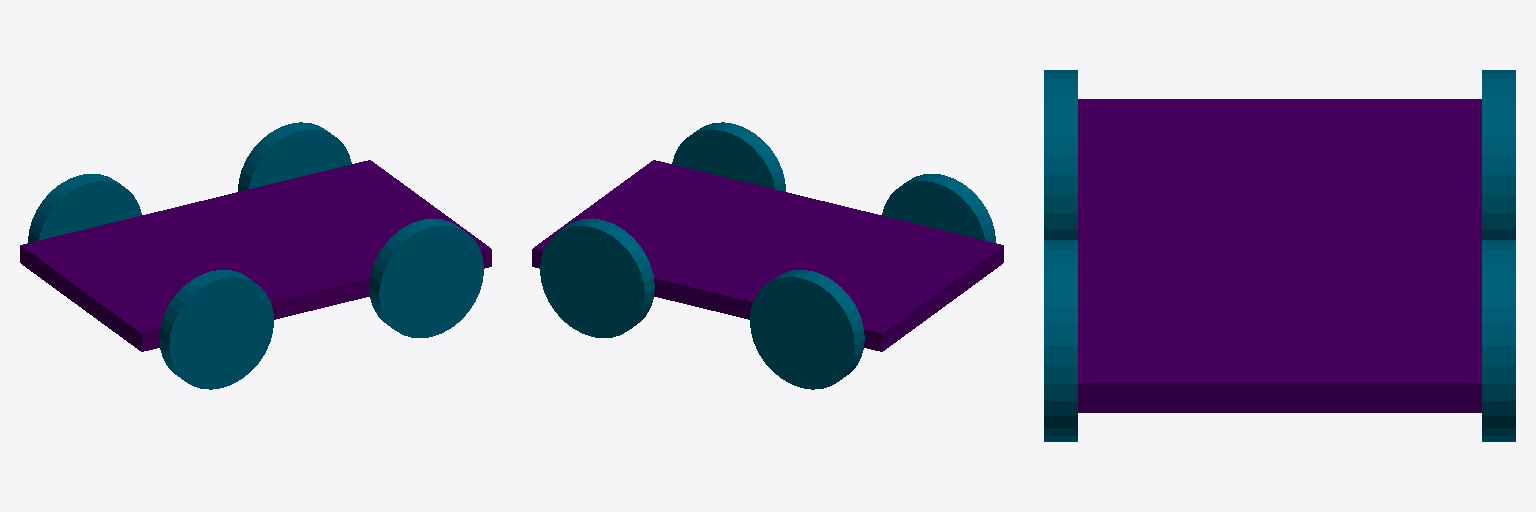
robot.urdf — car_robot:
<?xml version='1.0'?>
<robot name="car_robot">
	
	<material name="blue">
		<color rgba="0 0.4 0.5 1"/>
	</material>
	
	<!--dummy link-->
	<link name="base_link"/>
	
	<!--chassis link-->
	<link name="chassis-link">
		<visual>
			<origin xyz="0 0 0" rpy="0 0 0" />
			<geometry>
				<box size="0.2 0.12 .01" />
			</geometry>
			<material name="brown">
				<color rgba="0.3 0 0.4 1"/>
			</material>		
		</visual>
		<collision>
			<origin xyz="0 0 0" rpy="0 0 0" />
			<geometry>
				<box size="0.2 0.12 .01" />
			</geometry>
		</collision>
		<inertial>
			<mass value="0.4" />
			<inertia ixx="0.00048333" iyy="0.0013367" izz="0.0018133"
			ixy="0" ixz="0" iyz="0"/>
		</inertial>
	</link>
	
	<link name="front-right-wheel-link">
		<visual>
			<origin xyz="0 0 0" rpy="1.57079 0 0" />
			<geometry>
				<cylinder radius ="0.03"  length="0.01" />
			</geometry>
			<material name="blue" />
		</visual>
		<collision>
			<origin xyz="0 0 0" rpy="1.57079 0 0" />
			<geometry>
				<cylinder radius ="0.03"  length="0.01" />
			</geometry>
		</collision>
		<inertial>
			<origin xyz="0 0 0" rpy="1.57079 0 0" />
			<mass value="0.2" />
			<inertia ixx="0.00004667" iyy="0.00004667" izz="0.00009"
			ixy="0" ixz="0" iyz="0"/>
		</inertial>
	</link>
	
	<link name="front-left-wheel-link">
		<visual>
			<origin xyz="0 0 0" rpy="1.57079 0 0" />
			<geometry>
				<cylinder radius ="0.03"  length="0.01" />
			</geometry>
			<material name="blue" />
		</visual>
		<collision>
			<origin xyz="0 0 0" rpy="1.57079 0 0" />
			<geometry>
				<cylinder radius ="0.03"  length="0.01" />
			</geometry>
		</collision>
		<inertial>
			<origin xyz="0 0 0" rpy="1.57079 0 0" />
			<mass value="0.2" />
			<inertia ixx="0.00004667" iyy="0.00004667" izz="0.00009"
			ixy="0" ixz="0" iyz="0"/>
		</inertial>
	</link>
	
	<link name="rare-right-wheel-link">
		<visual>
			<origin xyz="0 0 0" rpy="1.57079 0 0" />
			<geometry>
				<cylinder radius ="0.03"  length="0.01" />
			</geometry>
			<material name="blue" />
		</visual>
		<collision>
			<origin xyz="0 0 0" rpy="1.57079 0 0" />
			<geometry>
				<cylinder radius ="0.03"  length="0.01" />
			</geometry>
		</collision>
		<inertial>
			<origin xyz="0 0 0" rpy="1.57079 0 0" />
			<mass value="0.2" />
			<inertia ixx="0.00004667" iyy="0.00004667" izz="0.00009"
			ixy="0" ixz="0" iyz="0"/>
		</inertial>
	</link>
	
	<link name="rare-left-wheel-link">
		<visual>
			<origin xyz="0 0 0" rpy="1.57079 0 0" />
			<geometry>
				<cylinder radius ="0.03"  length="0.01" />
			</geometry>
			<material name="blue" />
		</visual>	
		<collision>
			<origin xyz="0 0 0" rpy="1.57079 0 0" />
			<geometry>
				<cylinder radius ="0.03"  length="0.01" />
			</geometry>
		</collision>	
		<inertial>
			<origin xyz="0 0 0" rpy="1.57079 0 0" />
			<mass value="0.2" />
			<inertia ixx="0.00004667" iyy="0.00004667" izz="0.00009"
			ixy="0" ixz="0" iyz="0"/>
		</inertial>
	</link>
	
	<joint name="joint-base-chassis" type="fixed">
		<parent link="base_link"/>
		<child link="chassis-link"/>
		<origin xyz="0 0 0.03" rpy="0 0 0" />
	</joint>	
	
	<joint name="joint-chassis-front-right-wheel" type="continuous">
		<parent link="chassis-link"/>
		<child link="front-right-wheel-link"/>
		<origin xyz="0.06 0.065 0" rpy="0 0 0" />
		<axis xyz="0 1 0" />
	</joint>
	
	<joint name="joint-chassis-front-left-wheel" type="continuous">
		<parent link="chassis-link"/>
		<child link="front-left-wheel-link"/>
		<origin xyz="0.06 -0.065 0" rpy="0 0 0" />
		<axis xyz="0 1 0" />
	</joint>
	
	<joint name="joint-chassis-rare-right-wheel" type="continuous">
		<parent link="chassis-link"/>
		<child link="rare-right-wheel-link"/>
		<origin xyz="-0.06 0.065 0" rpy="0 0 0" />
		<axis xyz="0 1 0" />
	</joint>
	
	<joint name="joint-chassis-rare-left-wheel" type="continuous">
		<parent link="chassis-link"/>
		<child link="rare-left-wheel-link"/>
		<origin xyz="-0.06 -0.065 0" rpy="0 0 0" />
		<axis xyz="0 1 0" />
	</joint>
	
	
</robot>

--- What the picture shows (computed from the rendered views, not written in the file) ---
3 views of the same robot in one strip: view 1: azimuth 30°, elevation 25°; view 2: azimuth 150°, elevation 25°; view 3: azimuth 270°, elevation 25° (orthographic).
Robot: car_robot — 6 links, 5 joints (4 continuous, 1 fixed); root link base_link; default pose: every joint at zero.
Links seen in each view (by area): view 1: chassis-link, front-left-wheel-link, rare-left-wheel-link, front-right-wheel-link, rare-right-wheel-link; view 2: chassis-link, front-right-wheel-link, rare-right-wheel-link, front-left-wheel-link, rare-left-wheel-link; view 3: chassis-link, front-right-wheel-link, front-left-wheel-link, rare-right-wheel-link, rare-left-wheel-link.
Boxes of the visible links, x1,y1,x2,y2 form: chassis-link: [20, 160, 491, 351]; front-left-wheel-link: [369, 218, 483, 337]; rare-left-wheel-link: [159, 270, 273, 389]; front-right-wheel-link: [238, 122, 351, 191]; rare-right-wheel-link: [28, 174, 141, 242]; chassis-link: [532, 160, 1003, 351]; front-right-wheel-link: [540, 218, 654, 337]; rare-right-wheel-link: [750, 270, 864, 389]; front-left-wheel-link: [672, 122, 785, 191]; rare-left-wheel-link: [882, 174, 995, 242]; chassis-link: [1078, 99, 1481, 412]; front-right-wheel-link: [1482, 240, 1515, 441]; front-left-wheel-link: [1044, 240, 1077, 441]; rare-right-wheel-link: [1482, 70, 1515, 239]; rare-left-wheel-link: [1044, 70, 1077, 239].
Size in the robot's own frame: 0.2 by 0.14 by 0.06 metres.
Geometry: primitives only (box / cylinder / sphere), no mesh files.